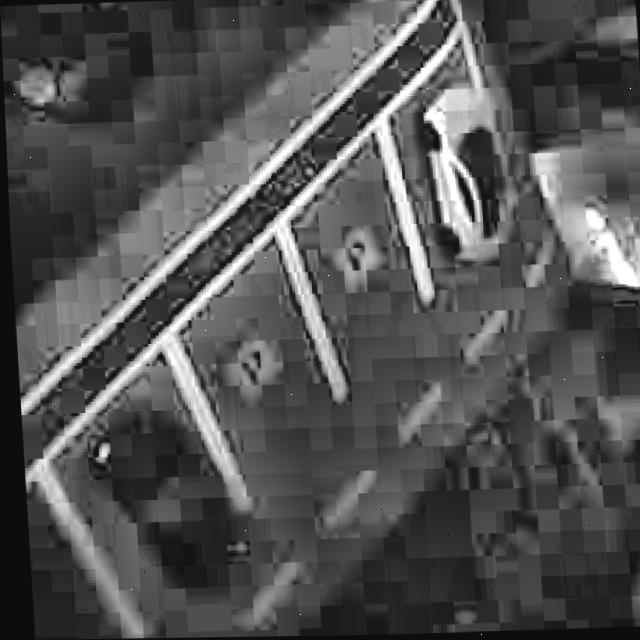car: (74, 398, 259, 601), (397, 69, 516, 274)
